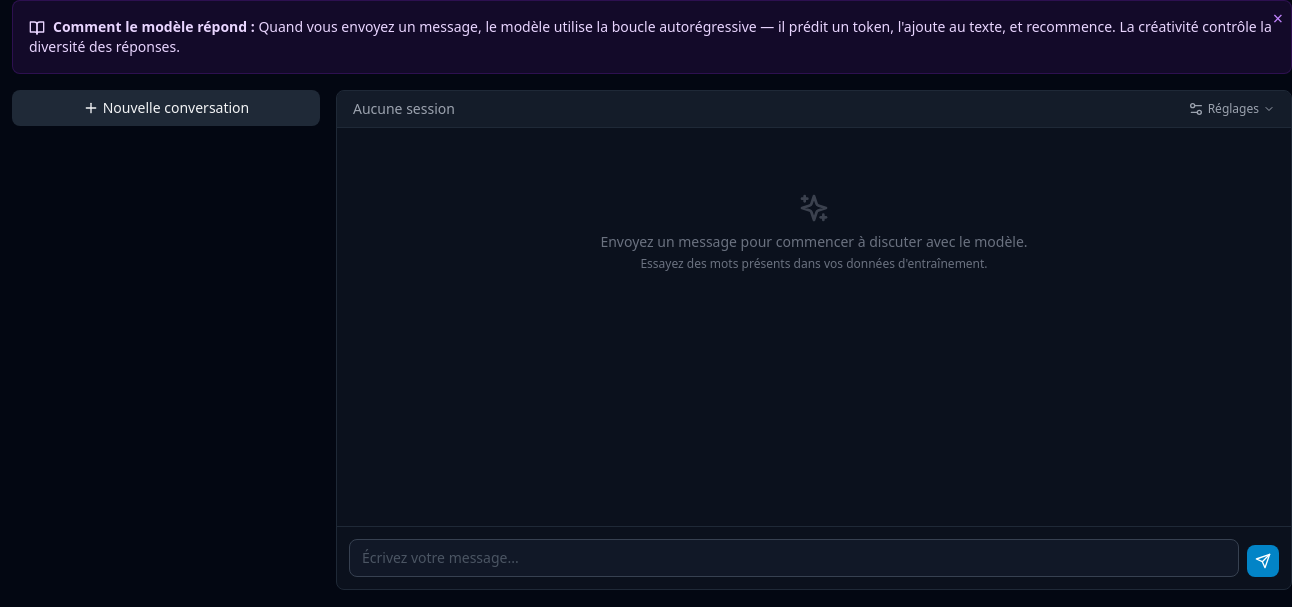
Test: PlaygroundChat › affiche les contrôles d'échantillonnage quand Réglages est ouvert
This screenshot has width=1292, height=607.
Click the button "Réglages": (1231, 109) left=1188, top=101, right=1275, bottom=117
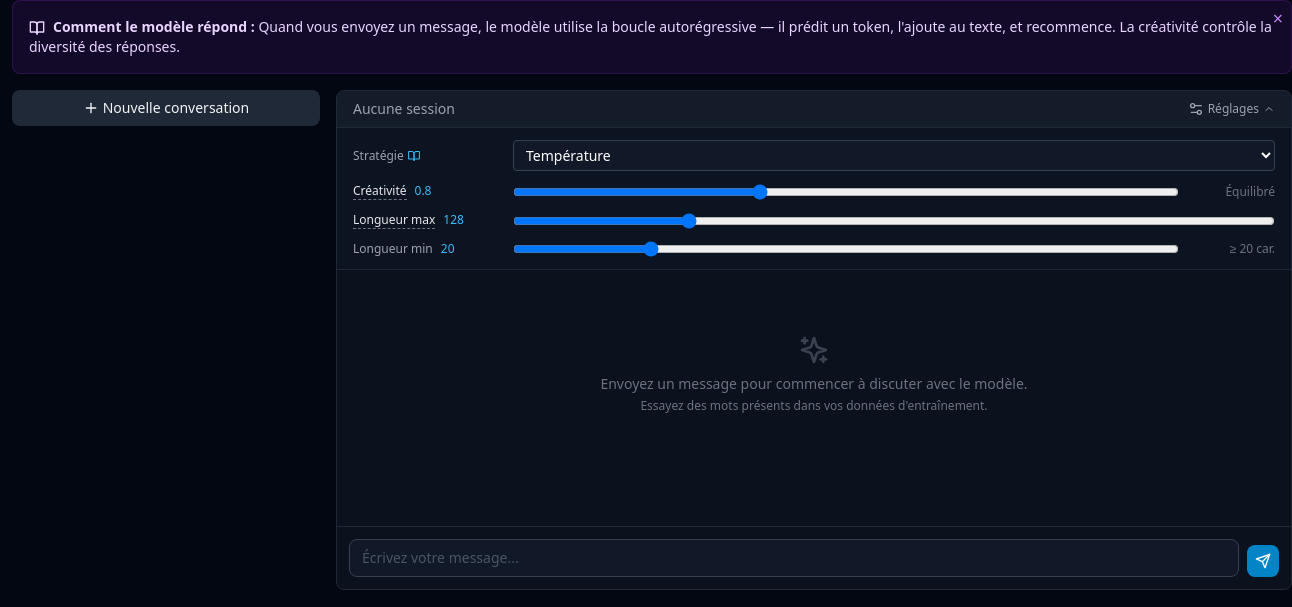
Now the text "Stratégie" is shown, box left=353, top=146, right=420, bottom=164
